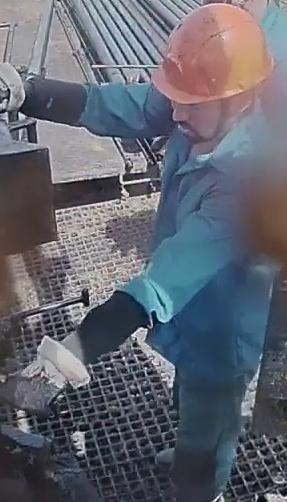gloves: (4, 334, 94, 425), (0, 61, 28, 117)
helmet: (150, 2, 274, 105)
vest: (143, 115, 279, 395)
